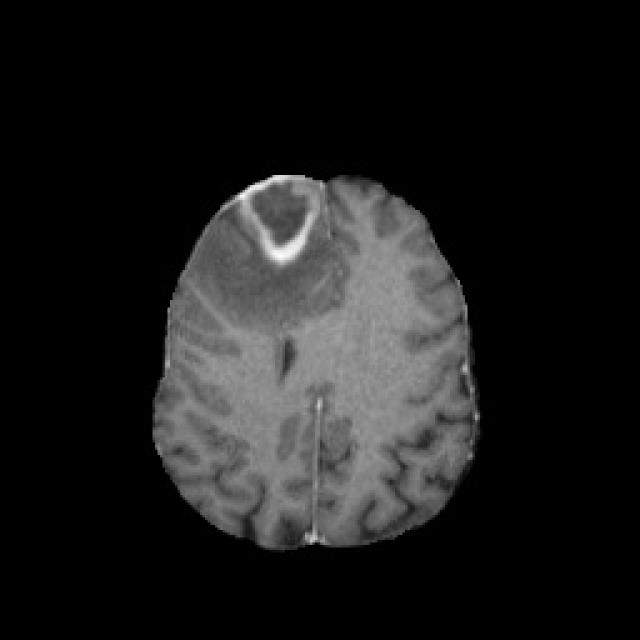positive: (240, 183, 322, 265)
